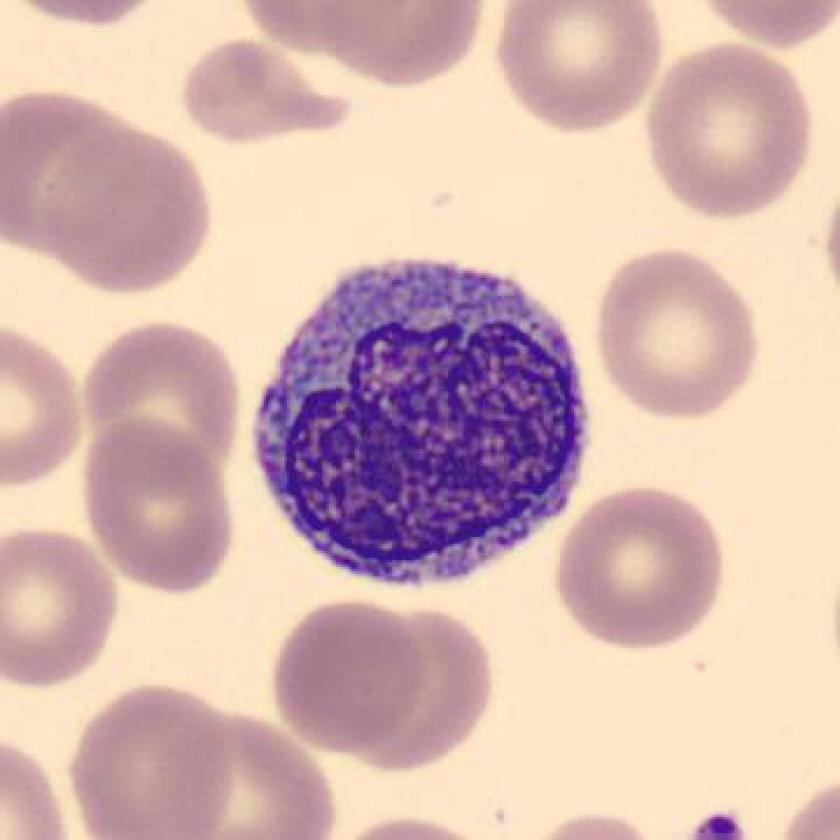monocyte: (235, 233, 613, 608)
